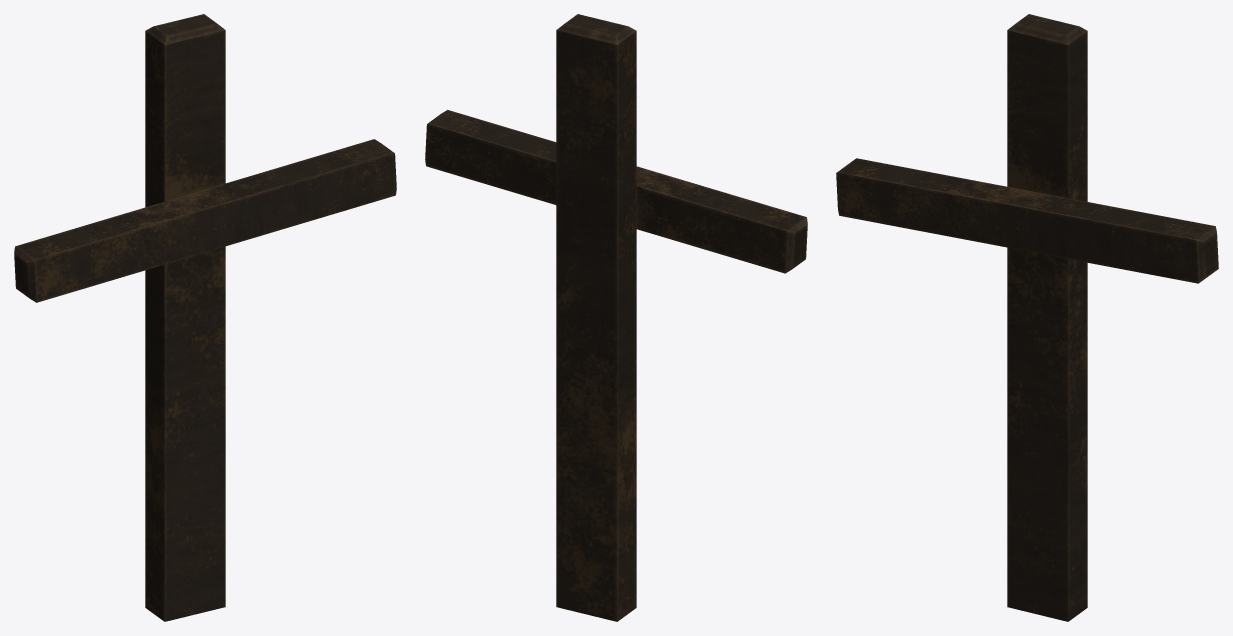
Rendered from cross_01.fbx.
3 renders of one model, left to right at view 1: azimuth 30°, elevation 25°; view 2: azimuth 150°, elevation 25°; view 3: azimuth 330°, elevation 25°, orthographic.
Visible parts, largest first — view 1: cross_01; view 2: cross_01; view 3: cross_01.
Boxes of the visible parts, bbox=[...] form: cross_01: bbox=[14, 14, 396, 621]; cross_01: bbox=[425, 14, 807, 621]; cross_01: bbox=[836, 14, 1218, 621].
Size of the model in its own units: 0.1348 by 0.2032 by 0.0249.
1 material, 1 textured.
